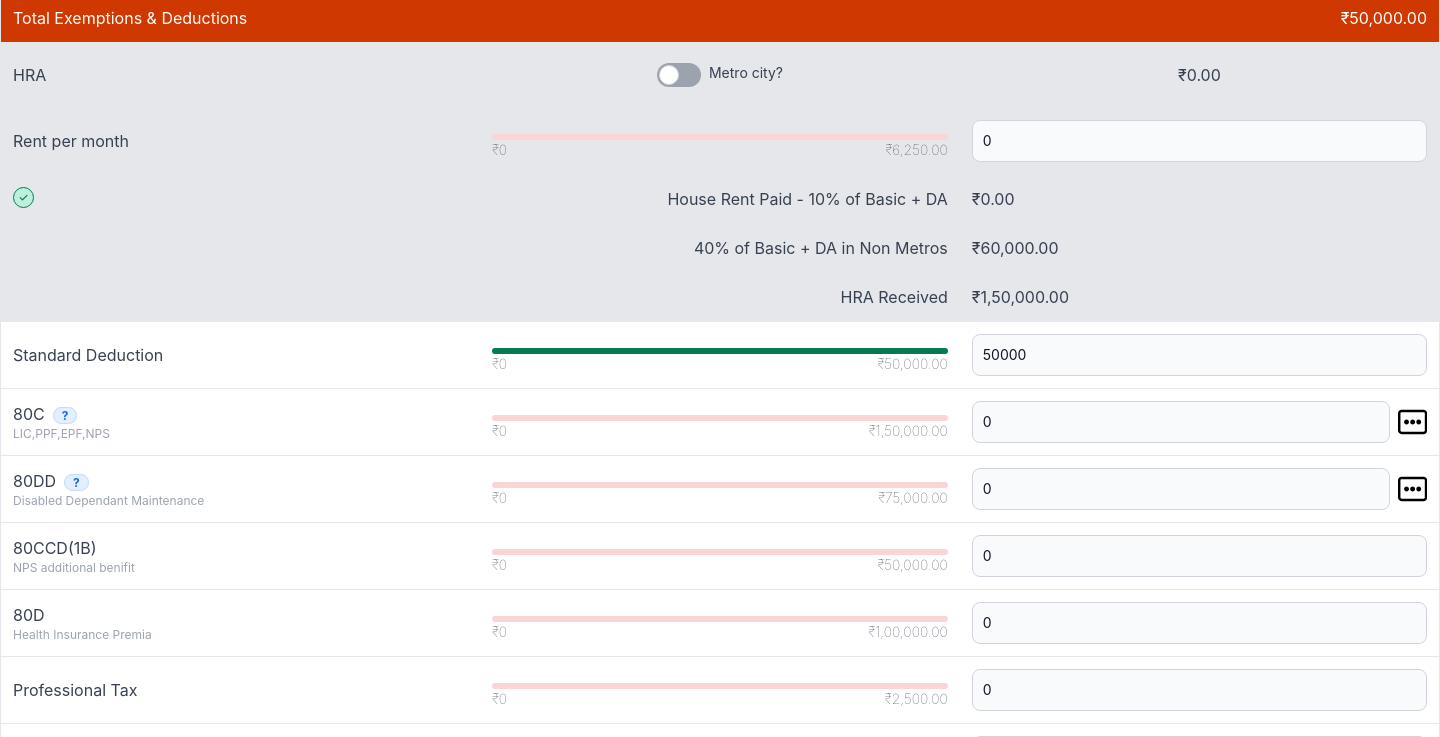
Test: <ExemptionsTab /> › open detailed modal 80C, 80CCD2 , 80D
Click the icon in the row of "LIC,PPF,EPF,NPS". click: coordinates (1412, 422)
box: [1398,406,1427,438]
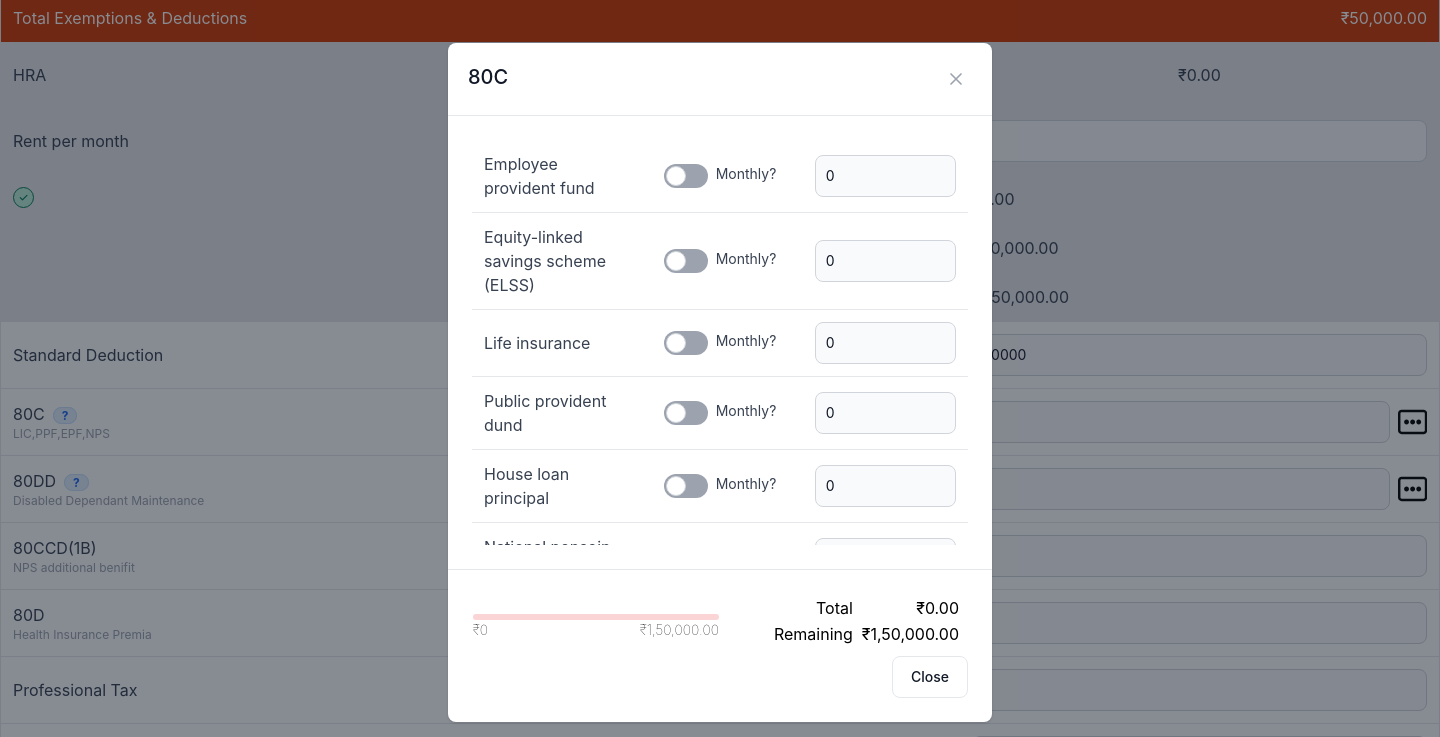
Now the text "Employee provident fund" is shown, box [472,140,637,212]
Now the text "Close" is shown, box [911,668,949,684]
Click the button "Close". click: coordinates (930, 676)
box: [892,656,968,698]
(page scrolled)
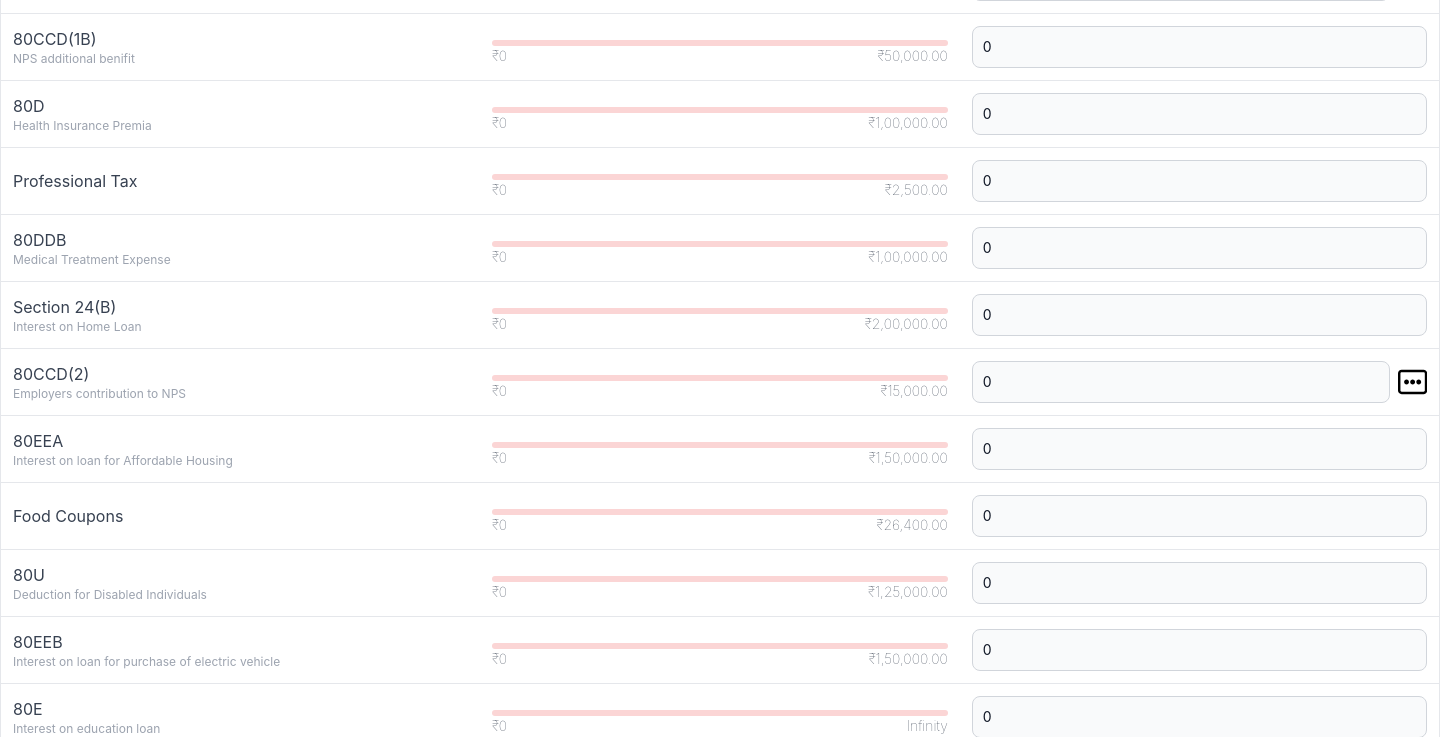
Now the text "Employee provident fund" is gone
Click the icon in the row of "80CCD(2)". click: coordinates (1412, 382)
box: [1398,366,1427,398]
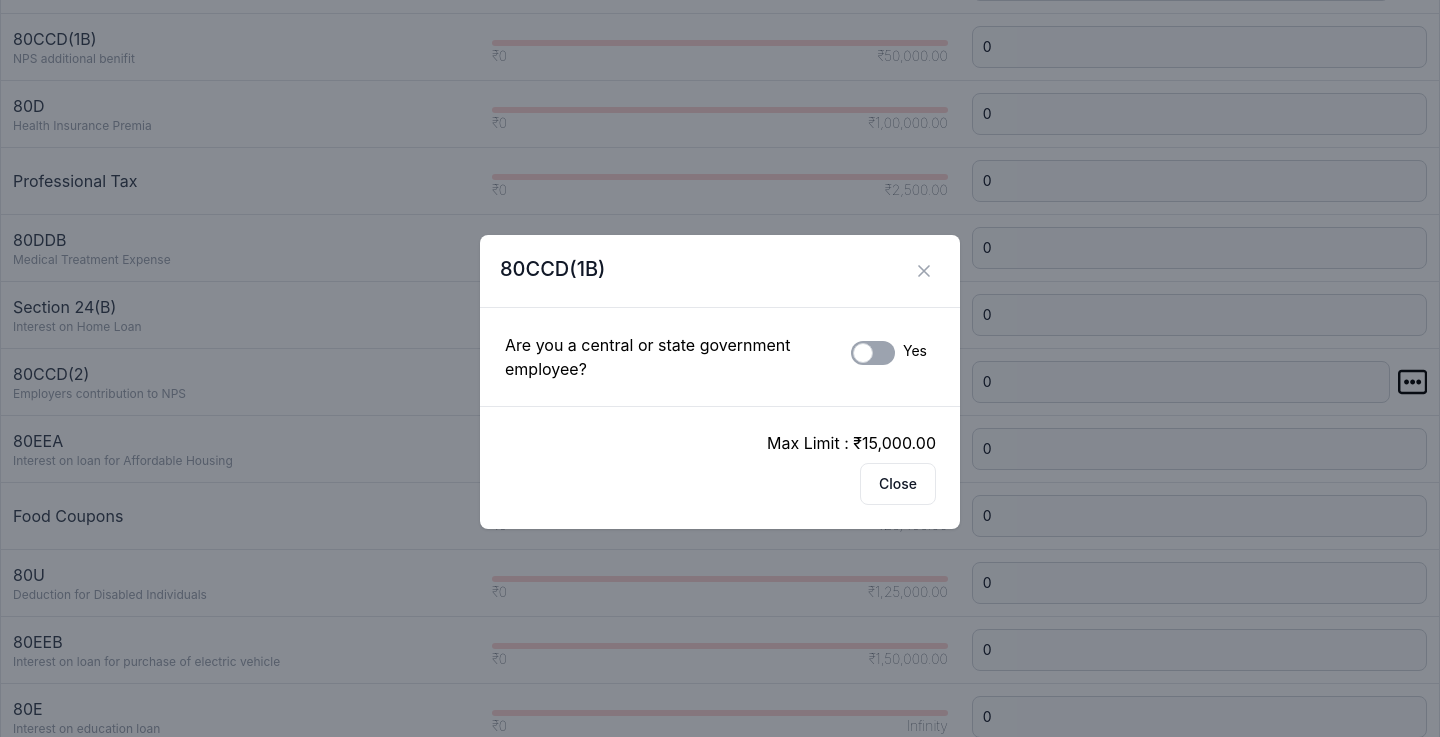
Now the text "Are you a central or state government employee?" is shown, box [504,332,842,382]
Now the text "Close" is shown, box [879,475,917,492]
Click the button "Close". click: coordinates (898, 484)
box: [860,463,936,505]
(page scrolled)
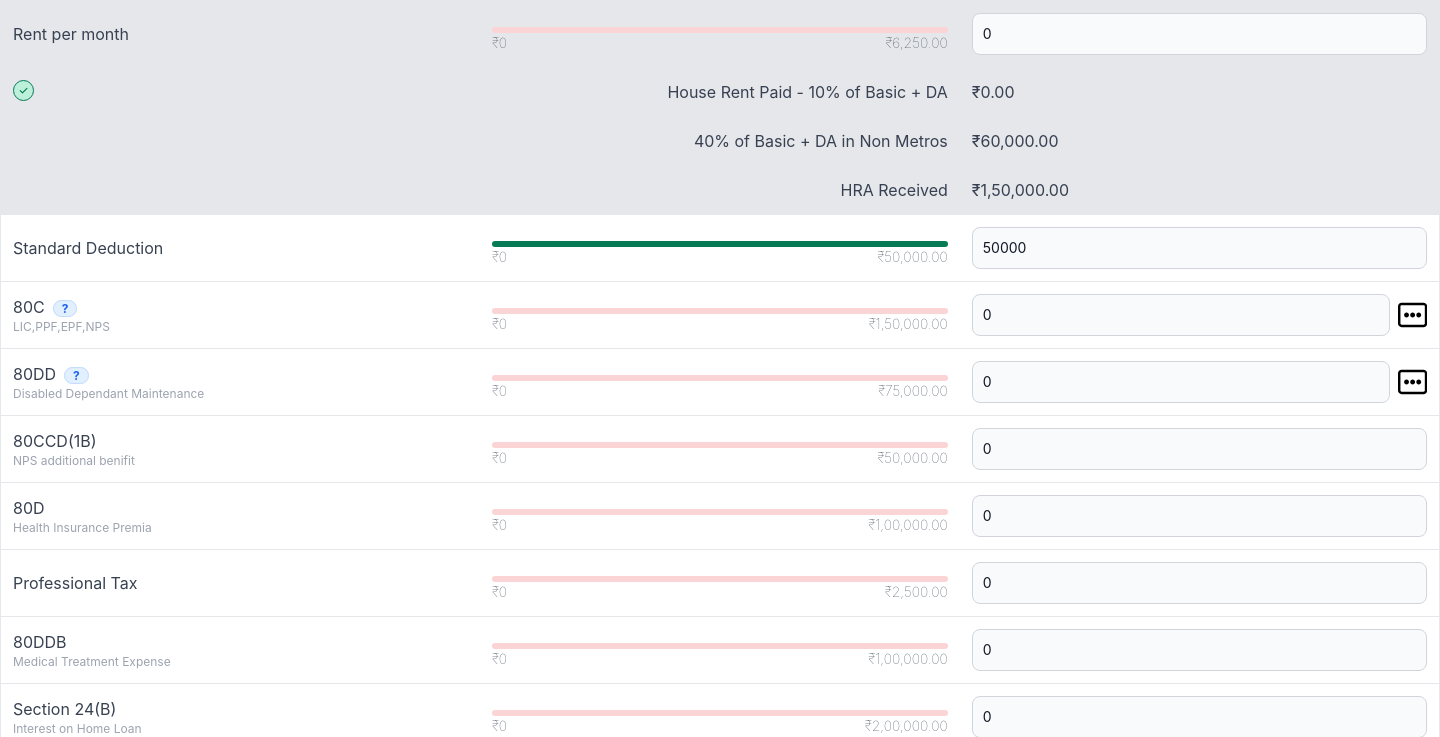
Now the text "Are you a central or state government employee?" is gone
Click the icon in the row of "Disabled Dependant Maintenance". click: coordinates (1412, 382)
box: [1398,366,1427,398]
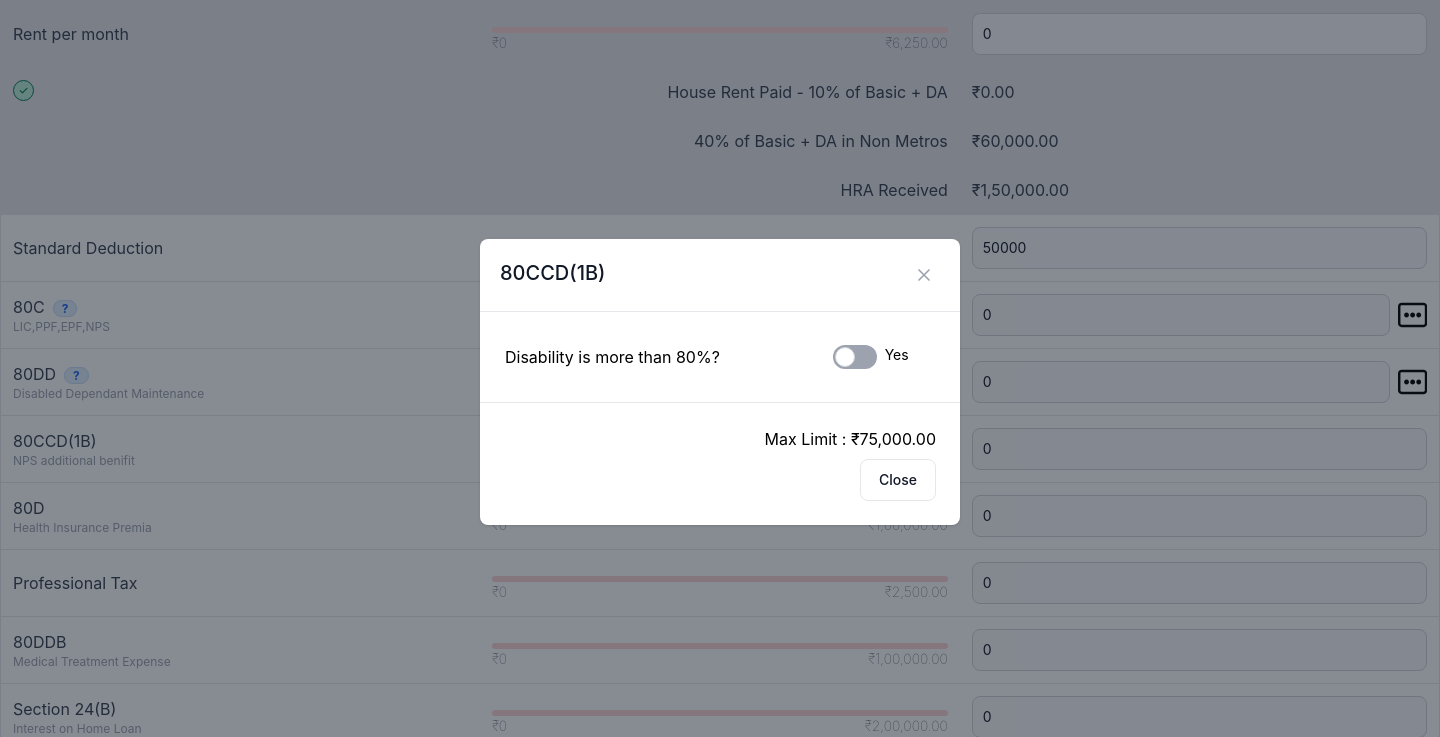
Now the text "Disability is more than 80%?" is shown, box [504,336,805,378]
Now the text "Close" is shown, box [879,471,917,488]
Click the button "Close". click: coordinates (898, 480)
box: [860,459,936,501]
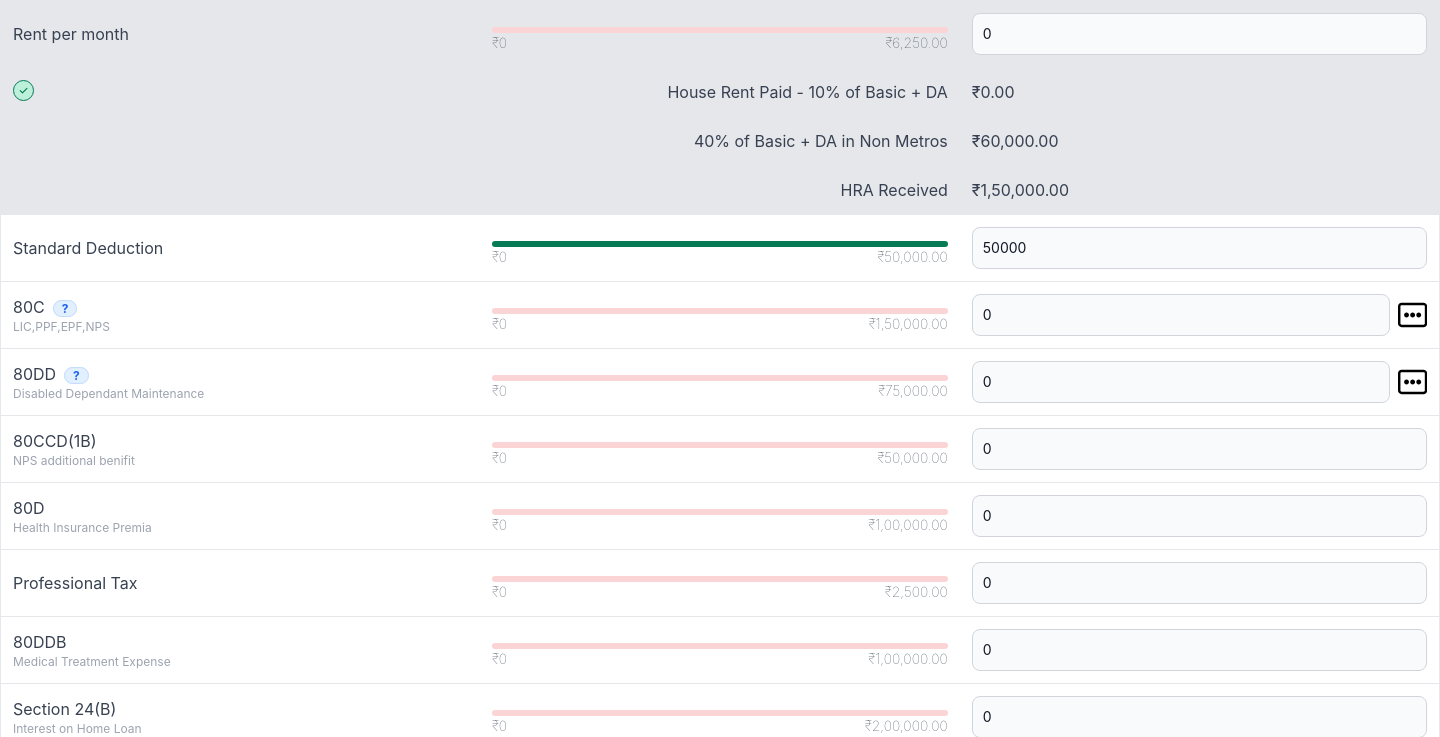
Now the text "Disability is more than 80%?" is gone
